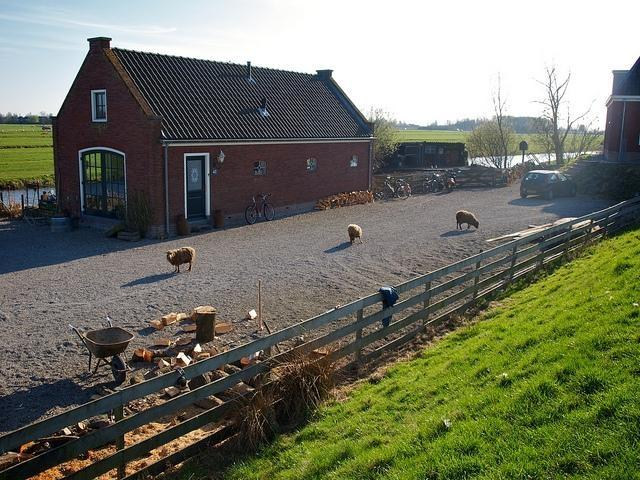bicycle: (244, 193, 276, 225), (382, 178, 411, 200), (423, 173, 439, 192)
car: (520, 170, 578, 200)
